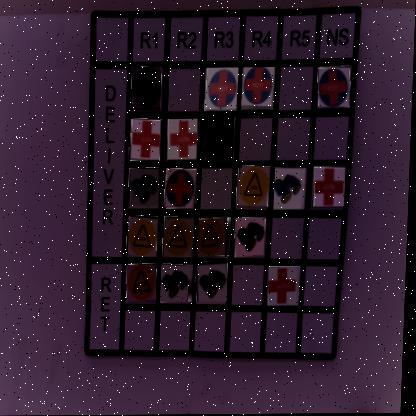OrderBlue: (206, 69, 241, 114), (243, 69, 278, 113), (167, 169, 200, 211), (133, 68, 164, 112), (320, 68, 353, 109)
OrderGurney: (276, 168, 310, 212), (198, 264, 232, 304), (237, 219, 269, 260), (164, 265, 197, 304), (131, 169, 163, 208)
OrderRed: (205, 119, 238, 162), (315, 168, 349, 209), (131, 120, 164, 162), (271, 267, 304, 308), (168, 120, 200, 162)
OrderYellow: (239, 167, 272, 211), (165, 218, 198, 259), (201, 219, 234, 259), (129, 217, 161, 258), (129, 265, 160, 304)
